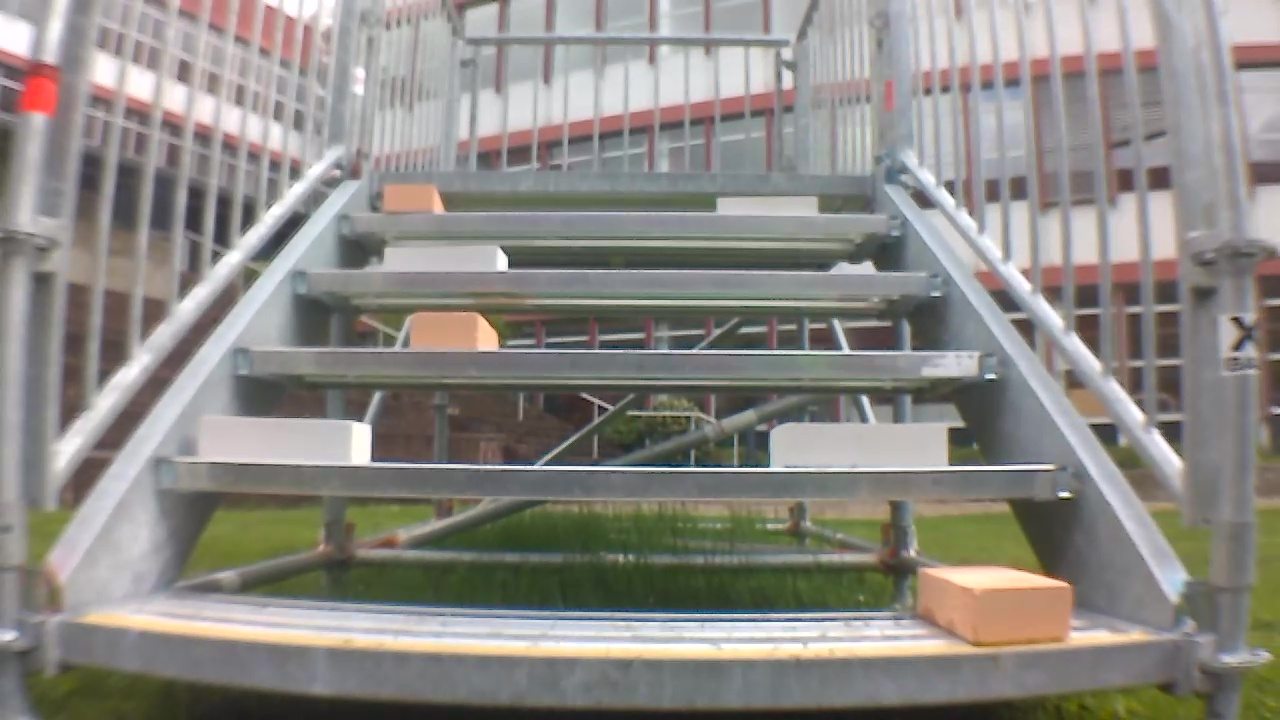brick: (916, 567, 1071, 644), (199, 416, 370, 462), (770, 425, 948, 469), (385, 245, 509, 271), (412, 314, 496, 350), (717, 195, 818, 214), (384, 185, 443, 211)
edge: (58, 620, 1177, 708), (156, 458, 1081, 499), (234, 348, 994, 377), (296, 269, 945, 293), (341, 214, 903, 235), (377, 170, 875, 193)
stairs: (6, 5, 1265, 715)
steps: (56, 167, 1188, 712)
